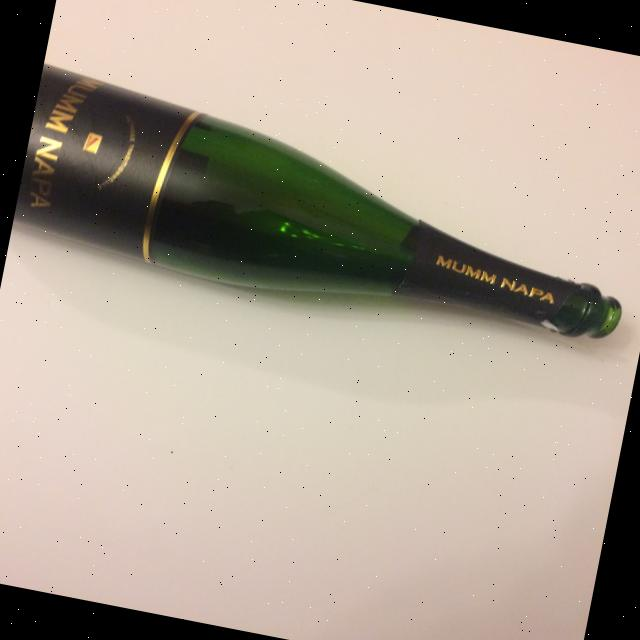glass: (10, 61, 640, 360)
